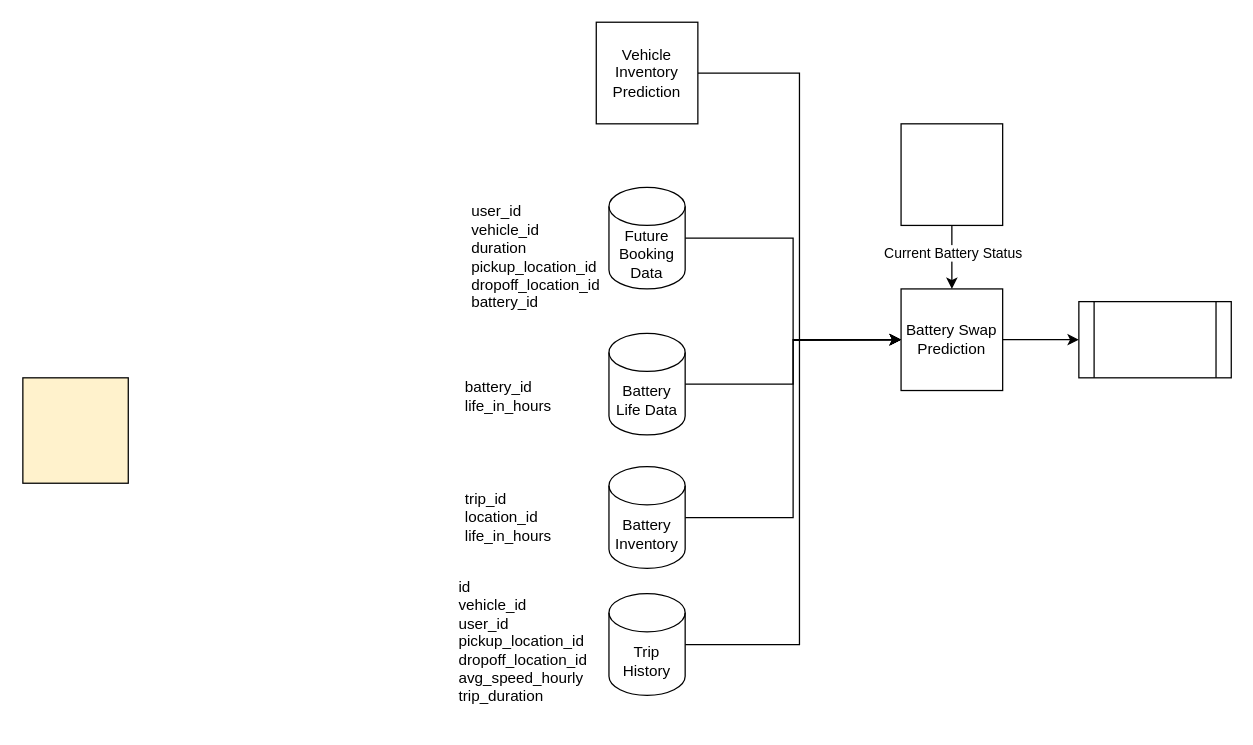
The diagram is 1253 pixels wide and 745 high, and some of its shapes have lost their labels. The shapes that lost their labels are listed below. From the top down, each one's box as (x1, y1, x2, y2) in pixels, then its label:
(900, 123, 1003, 225): Vehicle Telemetry
(1078, 300, 1231, 378): vehicle_id location_id battery_id date_time
(22, 377, 128, 483): Weather Service (3rd party API + Local processing)
